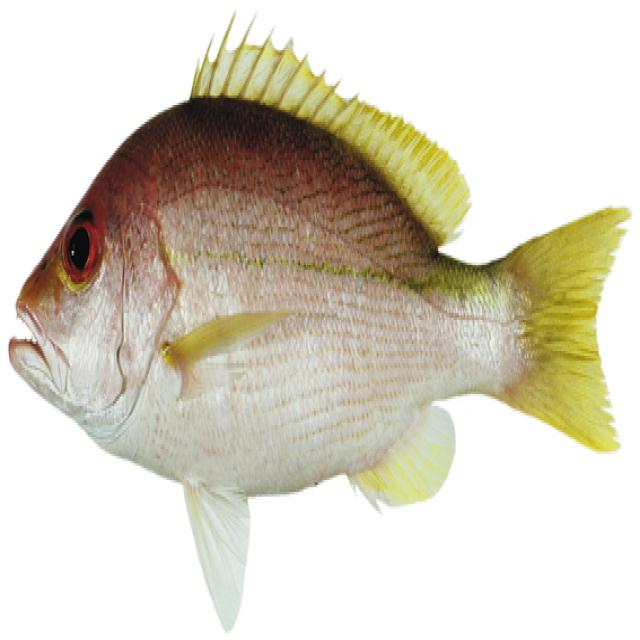ikan: (8, 9, 631, 633)
